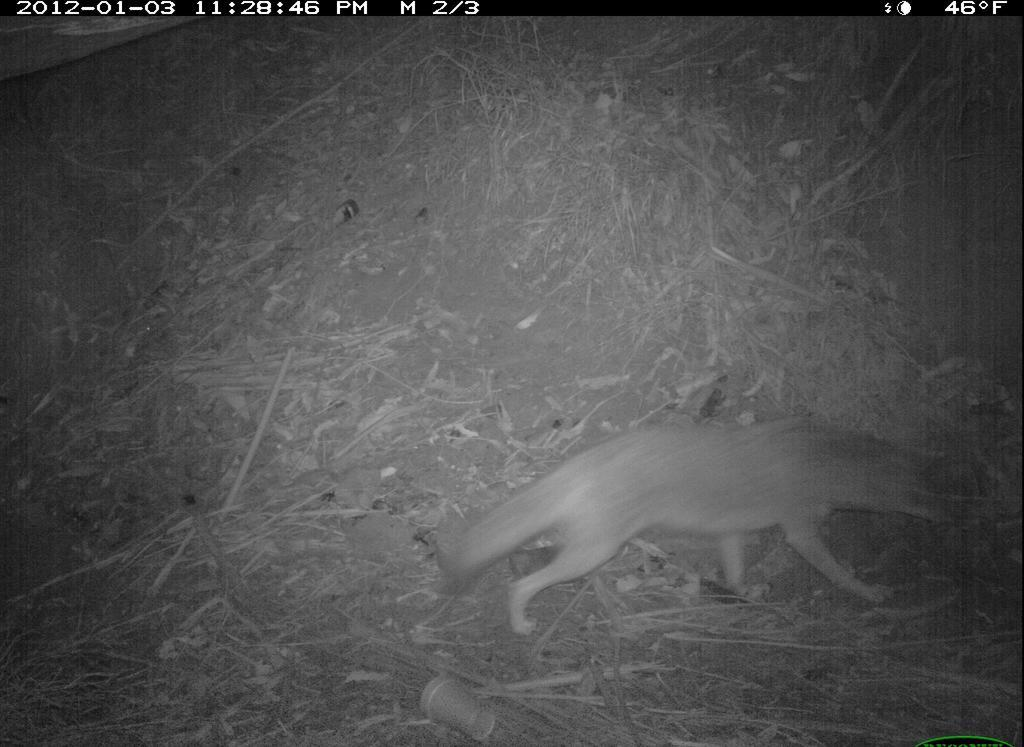coyote: (451, 365, 955, 661)
